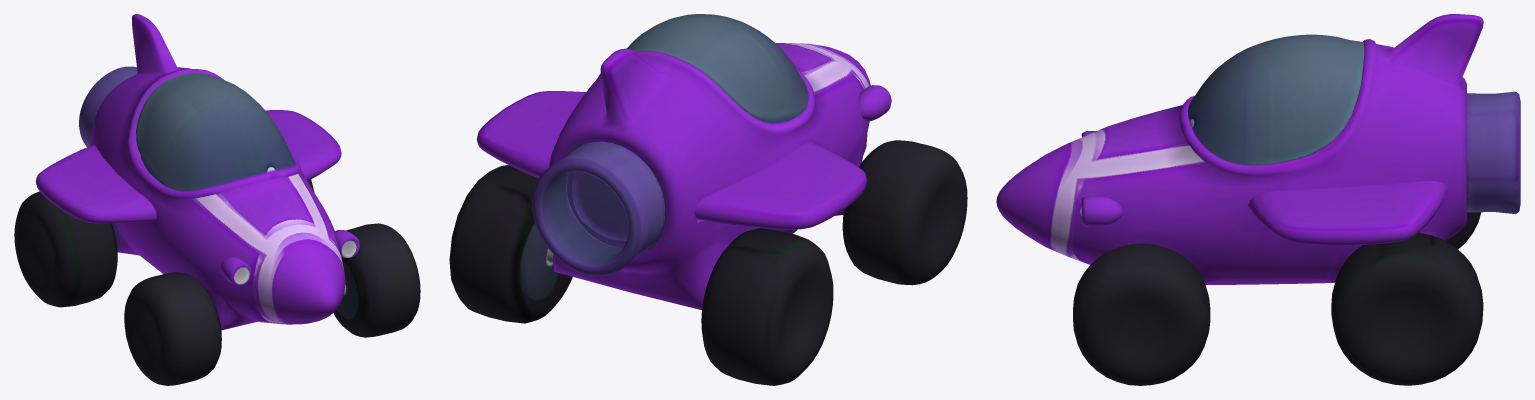
The model's file is car-roket.glb.
The picture shows the model from 3 angles, left to right: view 1: azimuth 30°, elevation 25°; view 2: azimuth 150°, elevation 25°; view 3: azimuth 270°, elevation 25°; orthographic projection. The views are drawn at different scales.
Parts seen in each view (by area): view 1: tripo_node_ab54c88d-b80b-4ef7-9ac9-025603a7f7cc; view 2: tripo_node_ab54c88d-b80b-4ef7-9ac9-025603a7f7cc; view 3: tripo_node_ab54c88d-b80b-4ef7-9ac9-025603a7f7cc.
Boxes of the visible parts, box(x1,y1,x2,y2) form: tripo_node_ab54c88d-b80b-4ef7-9ac9-025603a7f7cc: box(14, 14, 420, 385); tripo_node_ab54c88d-b80b-4ef7-9ac9-025603a7f7cc: box(449, 14, 967, 385); tripo_node_ab54c88d-b80b-4ef7-9ac9-025603a7f7cc: box(996, 14, 1520, 385).
Size of the model in its own units: 0.7397 by 0.6362 by 0.9995.
1 material, 1 textured.
